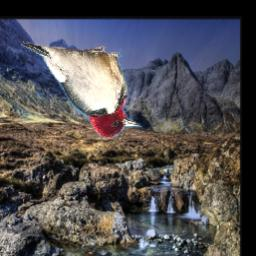Woodpecker: (21, 42, 142, 137)
